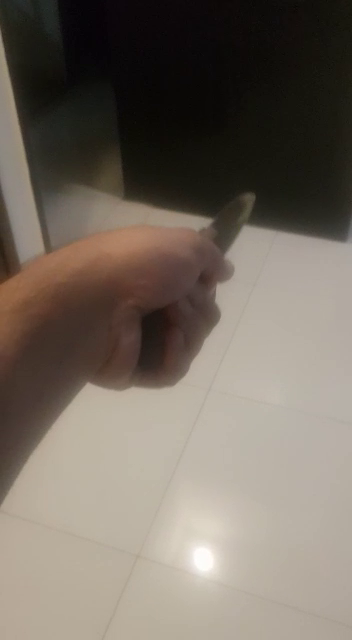knife: (13, 153, 288, 426)
